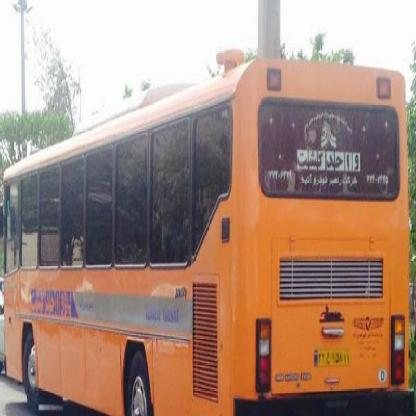Bus: (0, 43, 416, 416)
